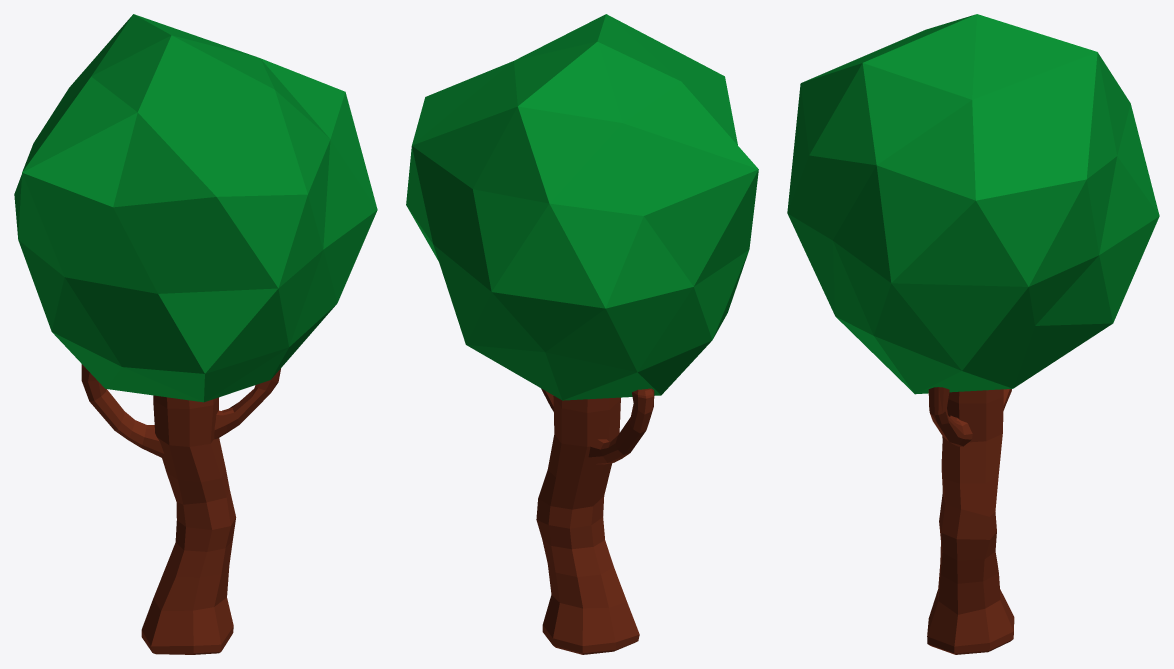
Rendered from stylized_low_poly_tree_-_game-ready.glb.
3 views of the same model, side by side, from view 1: azimuth 30°, elevation 25°; view 2: azimuth 150°, elevation 25°; view 3: azimuth 270°, elevation 25° (orthographic). The views are drawn at different scales.
Parts seen in each view (by area): view 1: branch.001_0; view 2: branch.001_0; view 3: branch.001_0.
Boxes of the visible parts, x1,y1,x2,y2 form: branch.001_0: (14, 14, 377, 654); branch.001_0: (406, 14, 758, 654); branch.001_0: (787, 14, 1159, 654).
Bounding box in the file's own units: 2.06 × 3.64 × 1.98.
